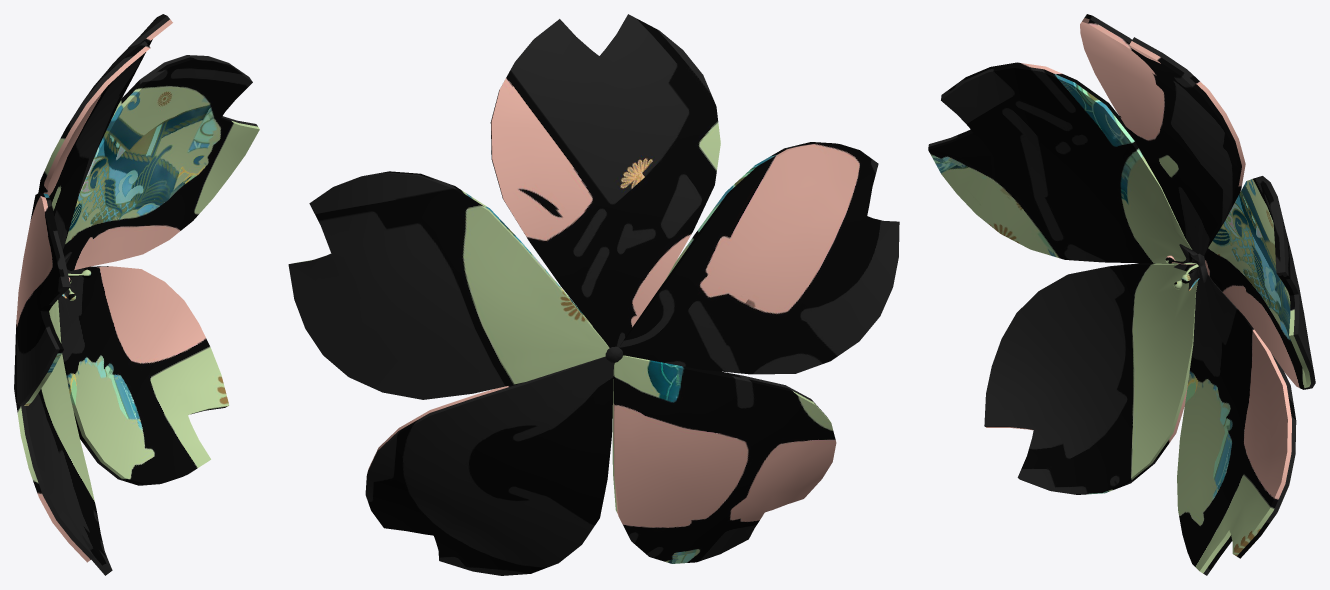
Rendered from sakura.fbx.
3 renders of one model, left to right at view 1: azimuth 30°, elevation 25°; view 2: azimuth 150°, elevation 25°; view 3: azimuth 270°, elevation 25°, orthographic. The views are drawn at different scales.
Parts seen in each view (by area): view 1: sakura; view 2: sakura; view 3: sakura.
Boxes of the visible parts, left/top/right/bottom form: sakura: left=14, top=14, right=259, bottom=575; sakura: left=288, top=14, right=899, bottom=575; sakura: left=928, top=14, right=1315, bottom=575.
Size of the model in its own units: 101 by 123 by 85.36.
